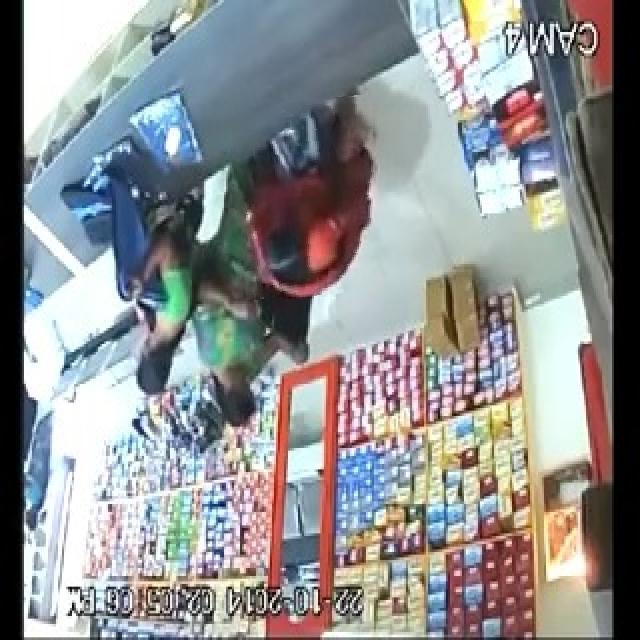Shoplifting: (234, 97, 381, 298)
